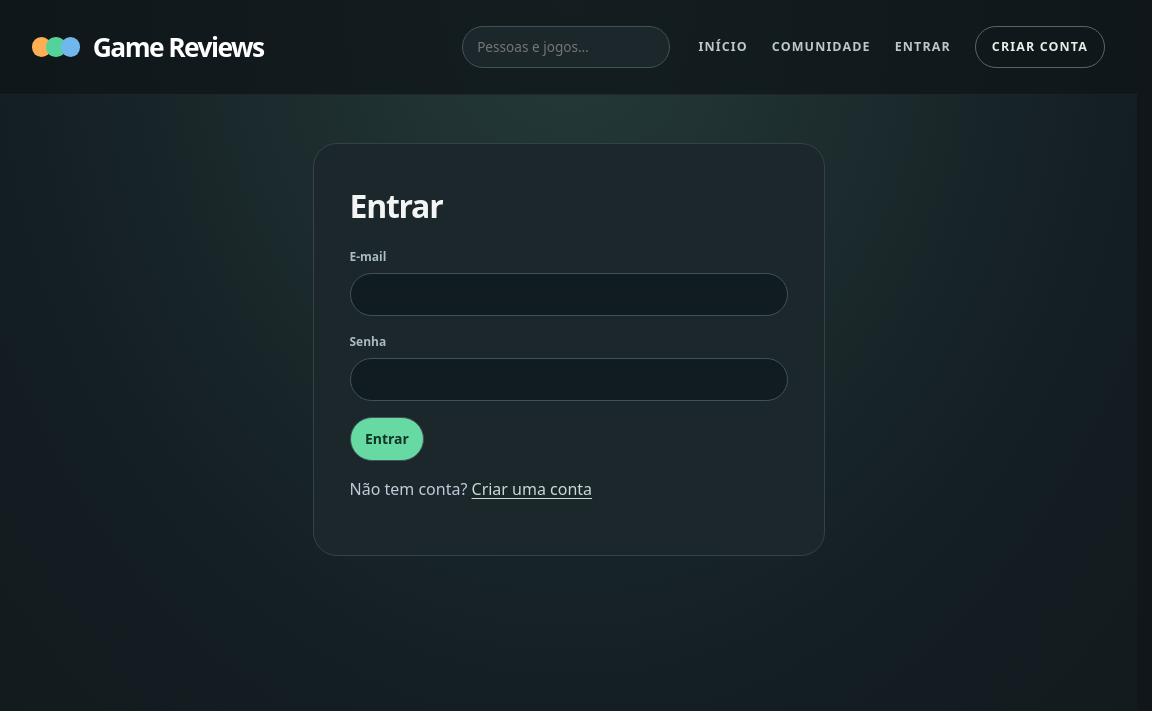
Test: Início sem seções favoritas/feed; estrelas usam uma leitura compartilhada: {"dashboard":true,"login":true,"empty":true}
Type "test@example.test" into the field labelled "E-mail".
click(568, 294); type("test@example.test")  # box [350,273,788,316]
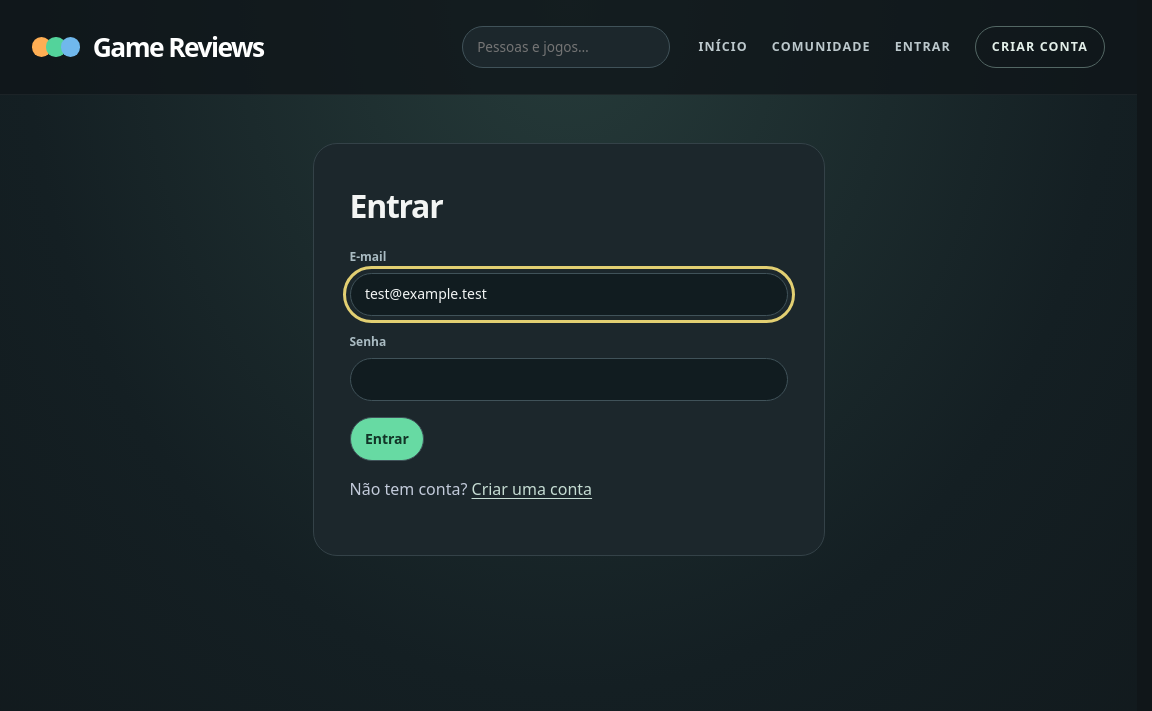
Type "test-only" into the password field labelled "Senha".
click(568, 380); type("test-only")  # box [350,358,788,402]
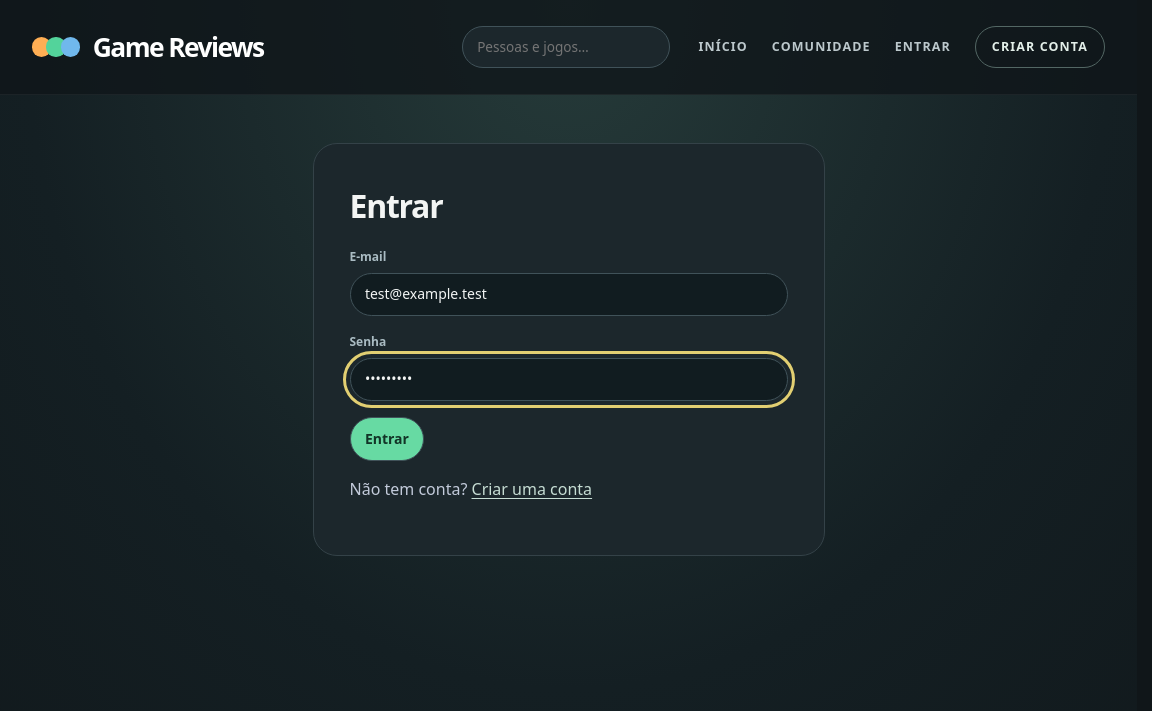
Click the button "Entrar".
click(387, 439)  # box [350,417,424,461]
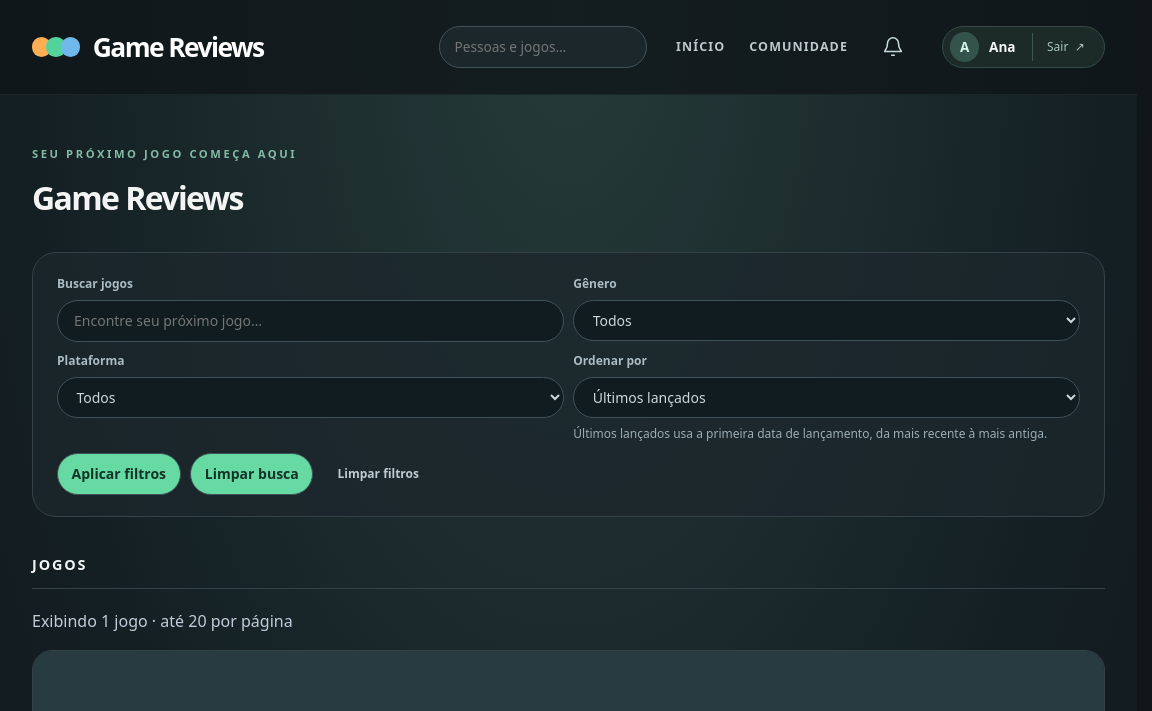
Expected: the element "Favoritos" is not shown
Now the link with aria-label "Meu perfil" is shown
Click the link with aria-label "Meu perfil".
click(965, 47)  # box [950,32,1016,62]
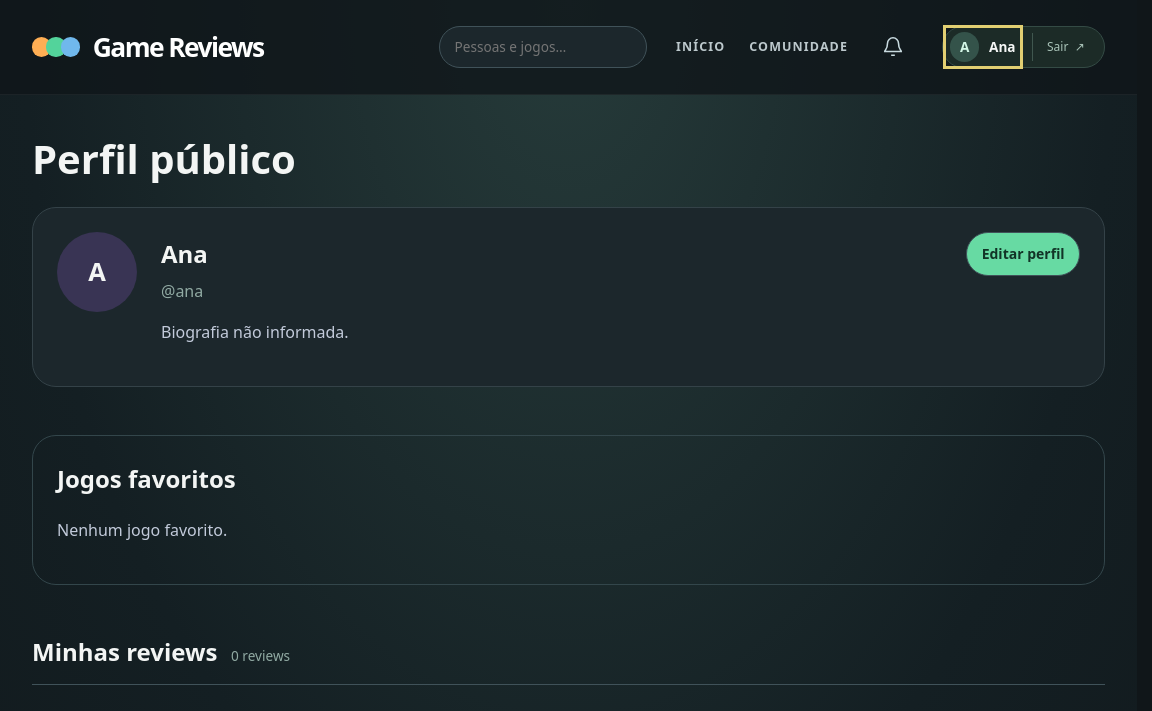
Now the text "Nenhum jogo favorito." is shown, box [57,519,227,541]
